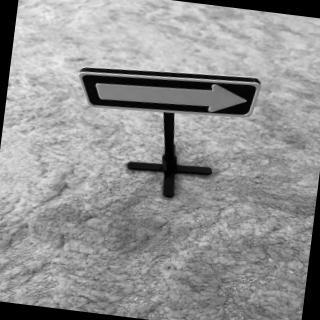sign_oneway_right: (74, 58, 269, 131)
